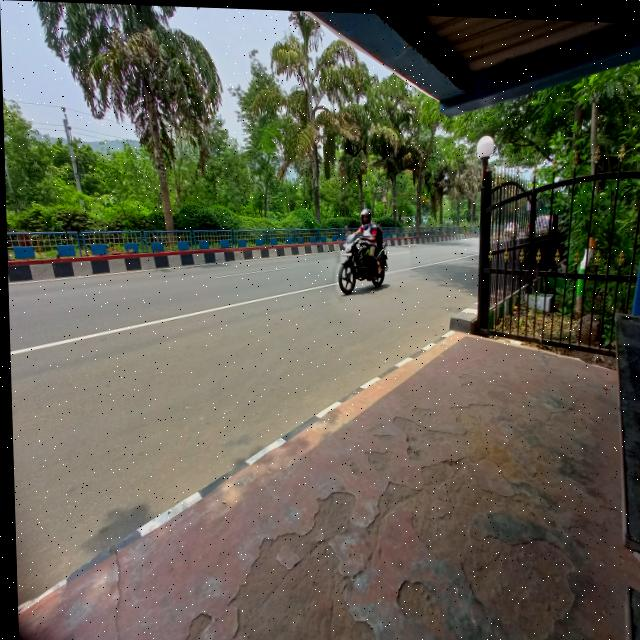bike: (329, 221, 399, 303)
